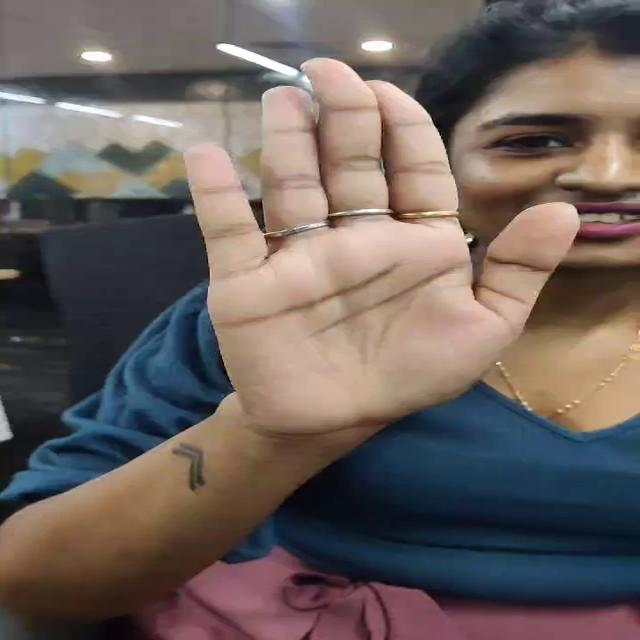no-gloves: (132, 38, 591, 452)
